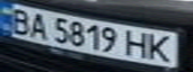1: (81, 21, 103, 51)
5: (48, 16, 72, 44)
8: (66, 19, 87, 47)
9: (100, 25, 121, 54)
A: (24, 10, 51, 39)
B: (6, 5, 33, 35)
H: (124, 28, 154, 60)
K: (145, 33, 178, 63)
